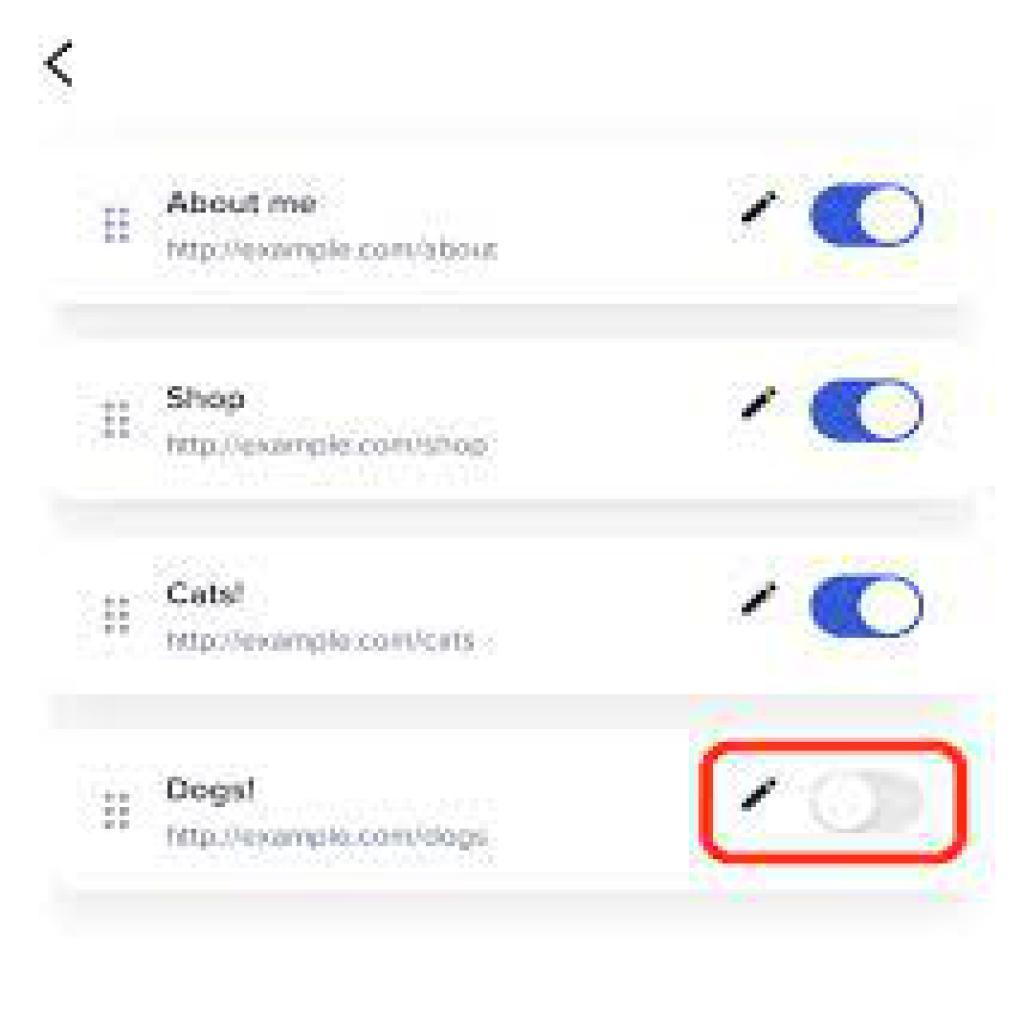switch: (794, 363, 932, 446), (805, 763, 944, 837), (798, 576, 932, 648), (812, 176, 924, 261)
